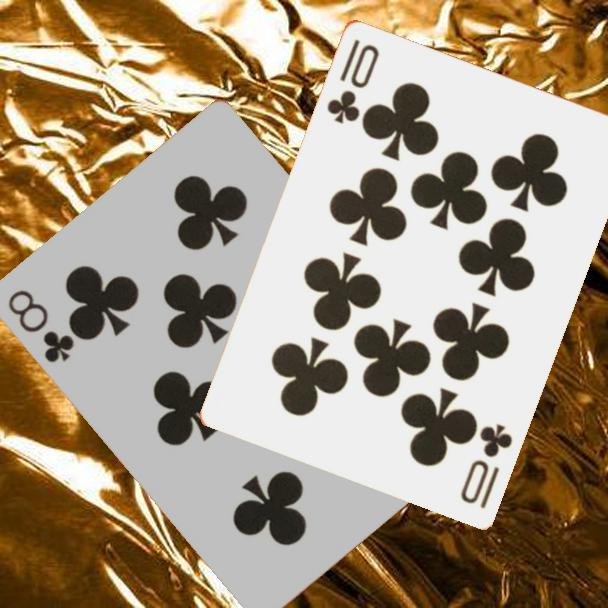c08: (3, 286, 77, 366)
c10: (323, 34, 382, 127), (456, 419, 515, 511)
